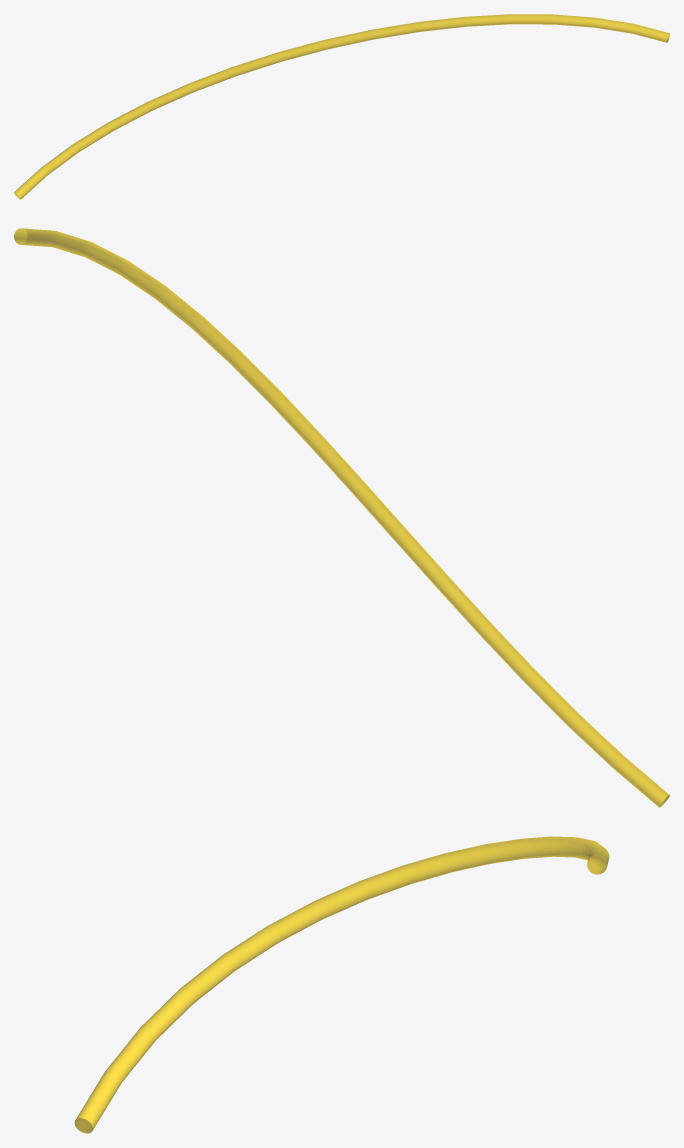
File: Event_75125125_track_97.fbx
The picture shows the model from 3 angles, top to bottom: view 1: azimuth 30°, elevation 25°; view 2: azimuth 150°, elevation 25°; view 3: azimuth 270°, elevation 25°; orthographic projection. The views are drawn at different scales.
Visible parts, largest first — view 1: Model; view 2: Model; view 3: Model.
Boxes of the visible parts, bbox=[...] form: Model: bbox=[14, 14, 669, 199]; Model: bbox=[14, 228, 669, 807]; Model: bbox=[74, 836, 609, 1133].
Bounding box in the file's own units: 2.4 × 0.6739 × 1.05.
